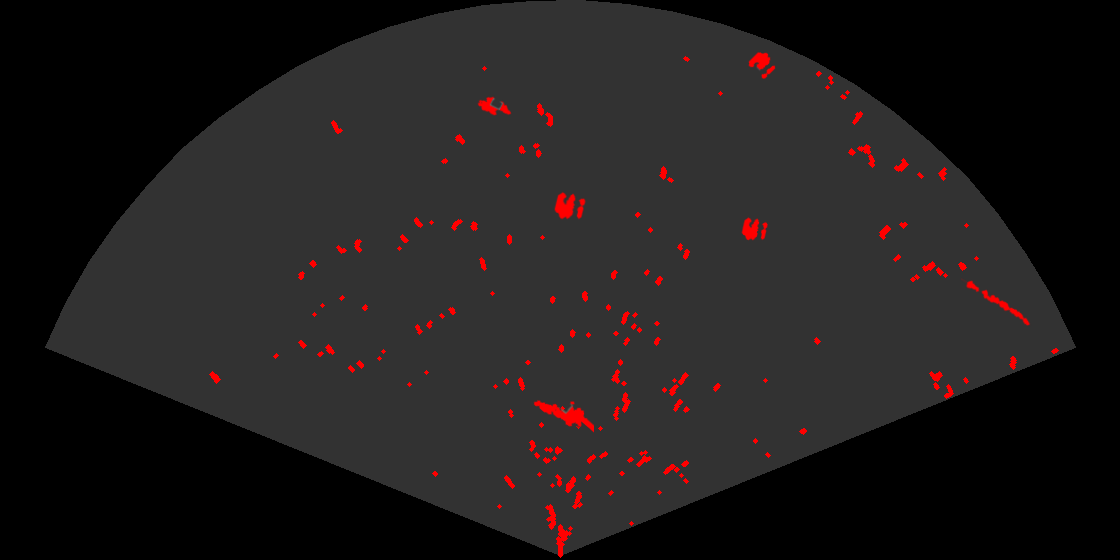AUV: (476, 95, 513, 117)
ball: (553, 190, 587, 221), (747, 50, 777, 80), (740, 215, 769, 242)
chain: (961, 277, 1032, 327)
frogman: (532, 398, 594, 434)
